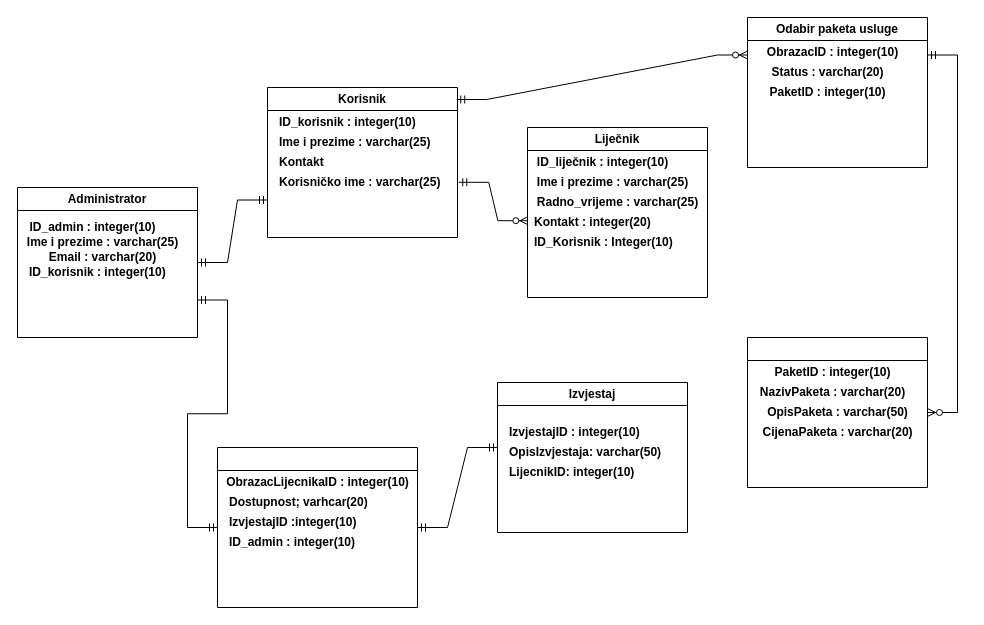
Some shapes in this 984 by 625 pixel diagram are drawn without their labels. The box of each missing label's shape, as (x1, y1, x2, y2) in pixels:
Obrazac za pretragu lijecnika: (216, 446, 418, 608)
Paket Usluge: (746, 336, 928, 488)
